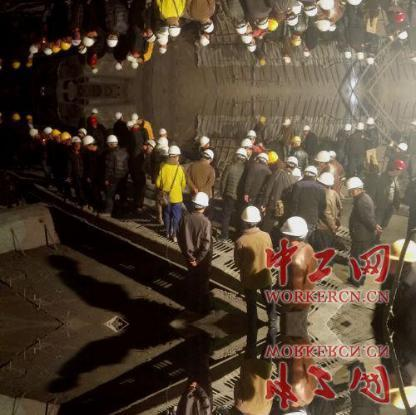helmet: (280, 214, 309, 239), (238, 204, 263, 225), (188, 189, 209, 209), (346, 175, 365, 192), (316, 174, 337, 189), (314, 149, 332, 164), (303, 166, 321, 180), (200, 147, 216, 160), (392, 159, 408, 171), (166, 145, 180, 157), (267, 151, 279, 165), (196, 134, 211, 145), (235, 149, 250, 160), (259, 151, 270, 166), (289, 135, 304, 145), (397, 141, 409, 153), (157, 138, 170, 149), (105, 134, 119, 144), (240, 138, 254, 148), (144, 138, 158, 146), (159, 125, 170, 135), (71, 135, 81, 146), (83, 136, 95, 145), (343, 121, 352, 132), (287, 155, 298, 164), (11, 112, 20, 122), (79, 125, 88, 135), (44, 128, 55, 136), (303, 124, 311, 134), (51, 129, 61, 137), (286, 118, 293, 129), (327, 150, 338, 157), (247, 128, 256, 136), (30, 128, 39, 136), (126, 120, 136, 127), (130, 114, 138, 122), (357, 122, 365, 130), (61, 132, 70, 139), (366, 118, 376, 124), (115, 111, 123, 118), (26, 115, 33, 121), (91, 108, 97, 114)
